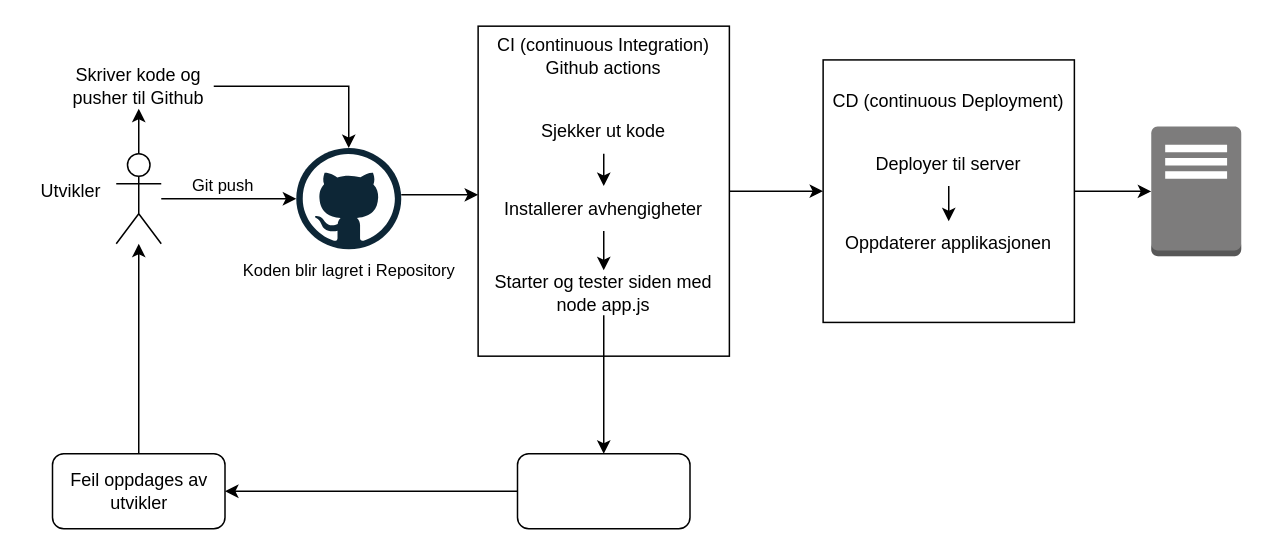
Some shapes in this 1268 by 557 pixel diagram are drawn without their labels. The shapes that lost their labels are listed below. From the top down, each one's box as (x1, y1, x2, y2) in pixels, then its label:
(1150, 125, 1241, 256): Server
(516, 452, 690, 529): Feil i løpet av testing
